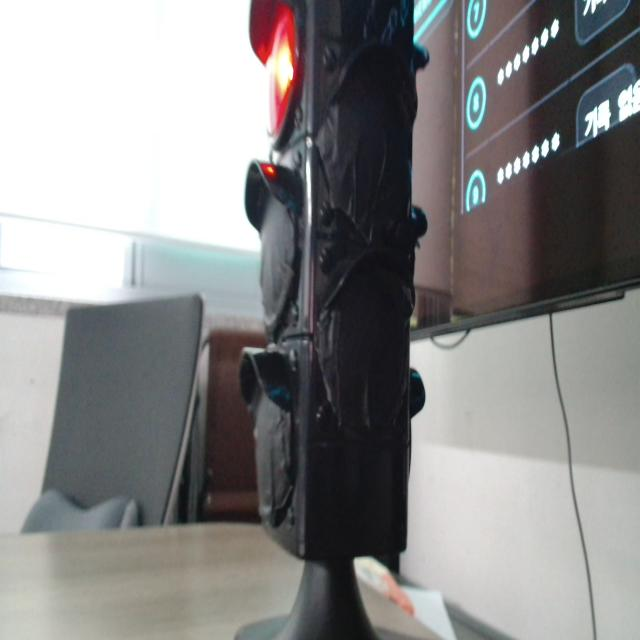red_light: (266, 3, 296, 136), (261, 164, 275, 178)
